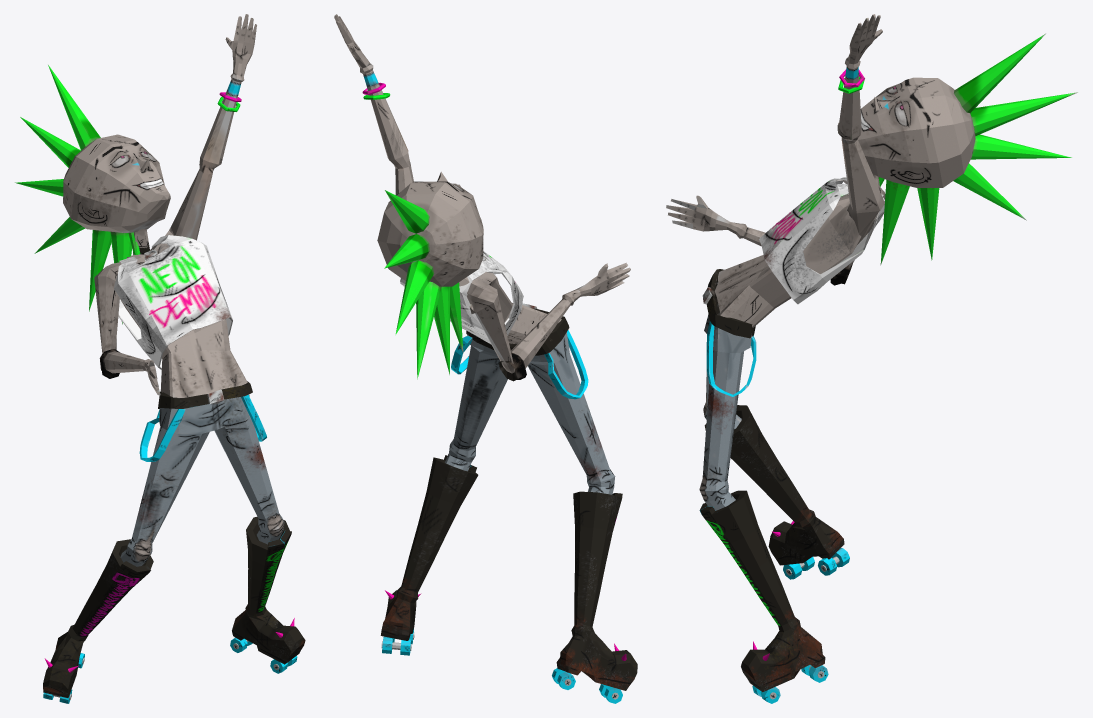
The model's file is punkAnimation_000097.obj.
3 views of the same model, side by side, from view 1: azimuth 30°, elevation 25°; view 2: azimuth 150°, elevation 25°; view 3: azimuth 270°, elevation 25° (orthographic). The views are drawn at different scales.
Parts seen in each view (by area): view 1: Cube.004_Cube.003; view 2: Cube.004_Cube.003; view 3: Cube.004_Cube.003.
Boxes of the visible parts, x1,y1,x2,y2 form: Cube.004_Cube.003: (15,14,305,703); Cube.004_Cube.003: (334,14,637,703); Cube.004_Cube.003: (666,14,1077,703).
Size of the model in its own units: 2.92 by 6.96 by 3.77.
